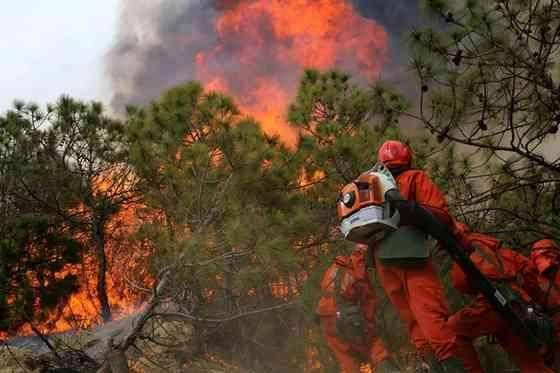fire: (168, 3, 385, 150), (8, 168, 174, 342), (256, 258, 305, 298), (289, 149, 329, 192), (202, 146, 228, 168), (248, 154, 277, 172)
